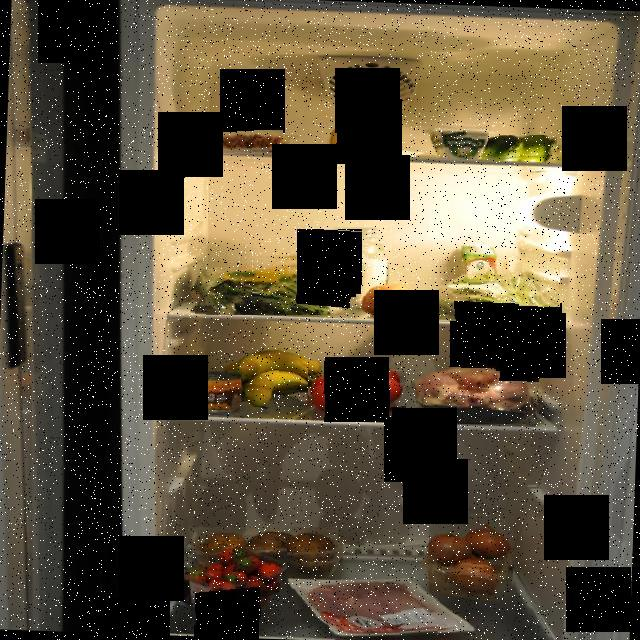banana: (224, 344, 326, 407)
cheese: (326, 116, 378, 152)
chicken: (410, 359, 541, 424)
corn: (186, 368, 242, 415)
goat_cheese: (422, 124, 489, 160)
green_beans: (432, 262, 560, 322)
ham: (302, 581, 442, 639)
heavy_cream: (456, 245, 501, 298)
lime: (472, 135, 557, 162)
onion: (428, 514, 513, 602)
potato: (188, 528, 338, 570)
shrimp: (195, 130, 284, 156)
spinach: (190, 251, 351, 315)
strawberries: (171, 547, 287, 627)
sugar: (317, 228, 392, 310)
sweet_potato: (356, 280, 424, 320)
tomato: (308, 362, 406, 419)
